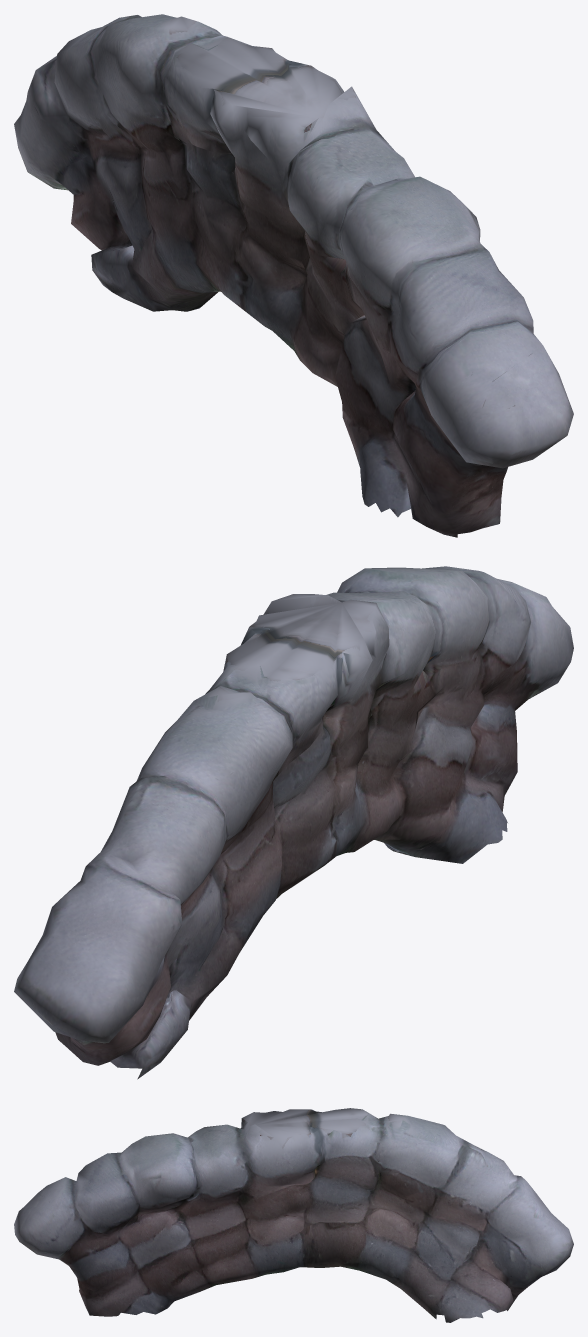
Rendered from Forest_Bridge_Rail.fbx.
3 renders of one model, top to bottom at view 1: azimuth 30°, elevation 25°; view 2: azimuth 150°, elevation 25°; view 3: azimuth 270°, elevation 25°, orthographic. The views are drawn at different scales.
Visible parts, largest first — view 1: ForestBridge_Rail.002; view 2: ForestBridge_Rail.002; view 3: ForestBridge_Rail.002.
Part boxes in pixels (bbox=[...]): ForestBridge_Rail.002: bbox=[14, 14, 573, 537]; ForestBridge_Rail.002: bbox=[14, 566, 573, 1079]; ForestBridge_Rail.002: bbox=[14, 1108, 573, 1322].
Size of the model in its own units: 91.83 by 182 by 489.
